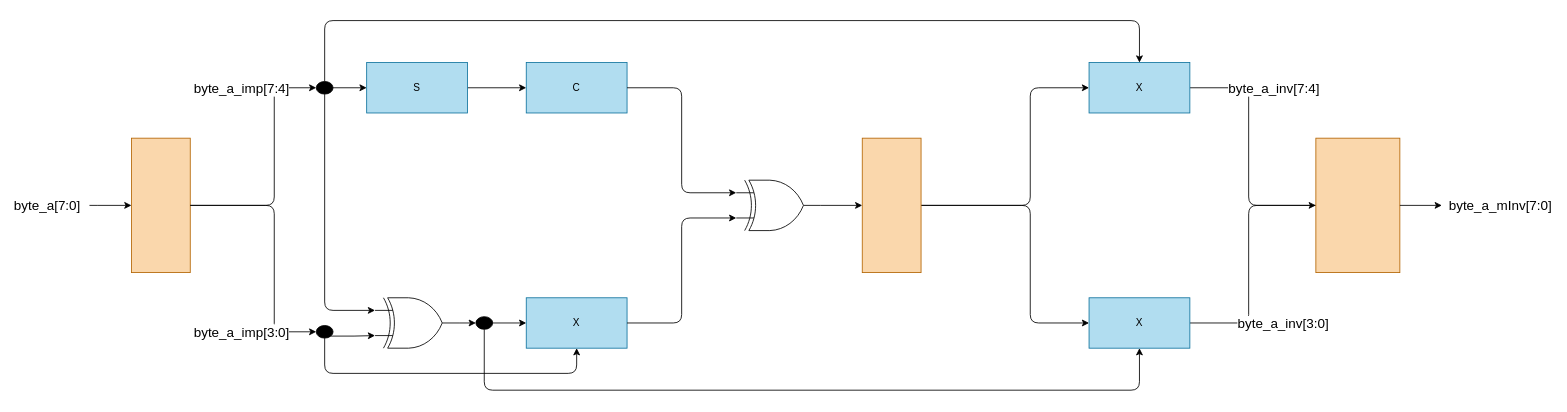
This 1567x412 diagram has some shape labels left out. The centre of each missing label's shape, as x and y in pixels:
"Imp" goes at (x=160, y=205).
"ImpInv" goes at (x=1357, y=205).
"Inv" goes at (x=891, y=205).
